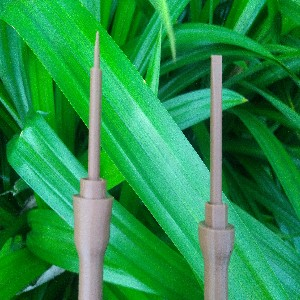obeng: (198, 53, 237, 300)
solder: (72, 29, 115, 300)
